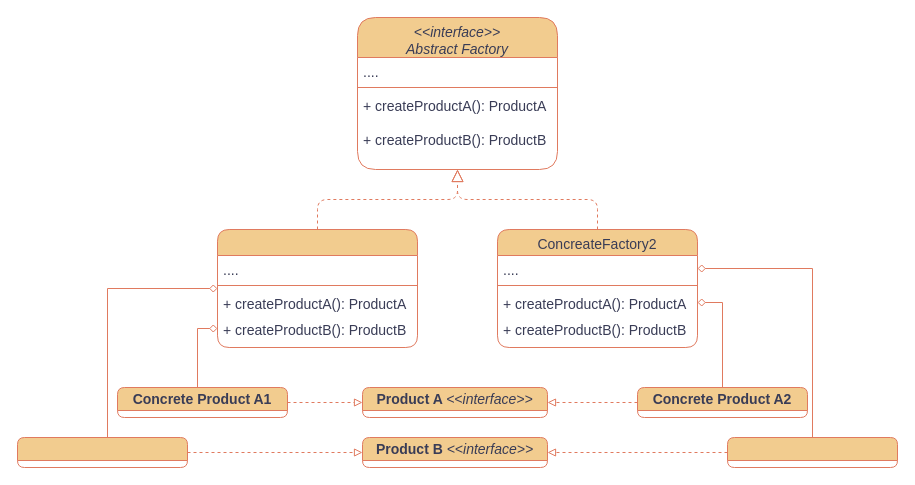
Some shapes in this 915 by 485 pixel diagram are drawn without their labels. The box of each missing label's shape, as (x1, y1, x2, y2) in pixels:
ConcreateFactory1: (216, 228, 418, 348)
Concrete Product B1: (16, 436, 188, 468)
Concrete Product B2: (726, 436, 898, 468)
